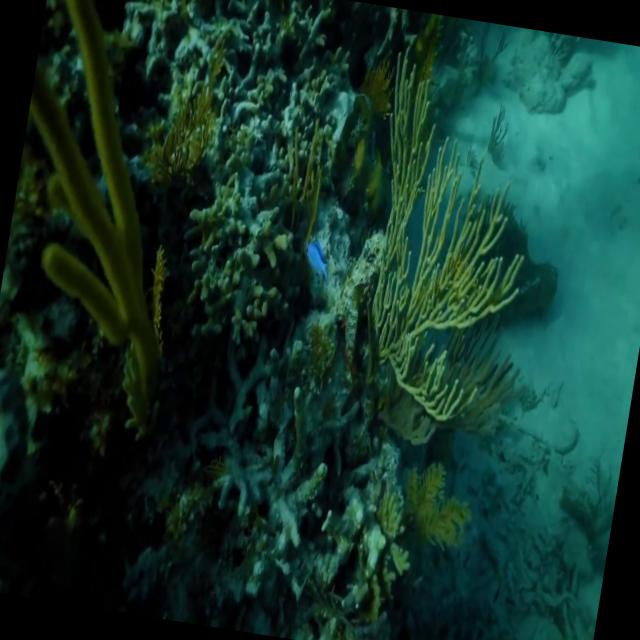fish: (294, 228, 340, 291)
